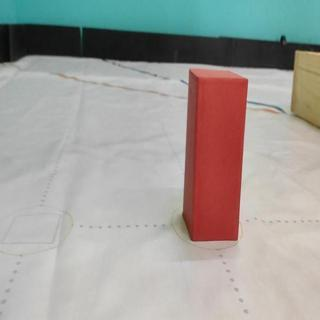redbox: (183, 68, 247, 240)
